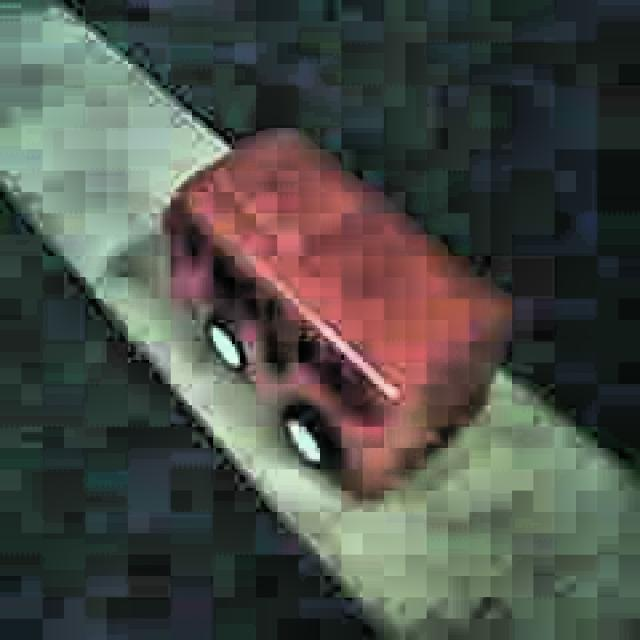bus: (162, 127, 512, 507)
